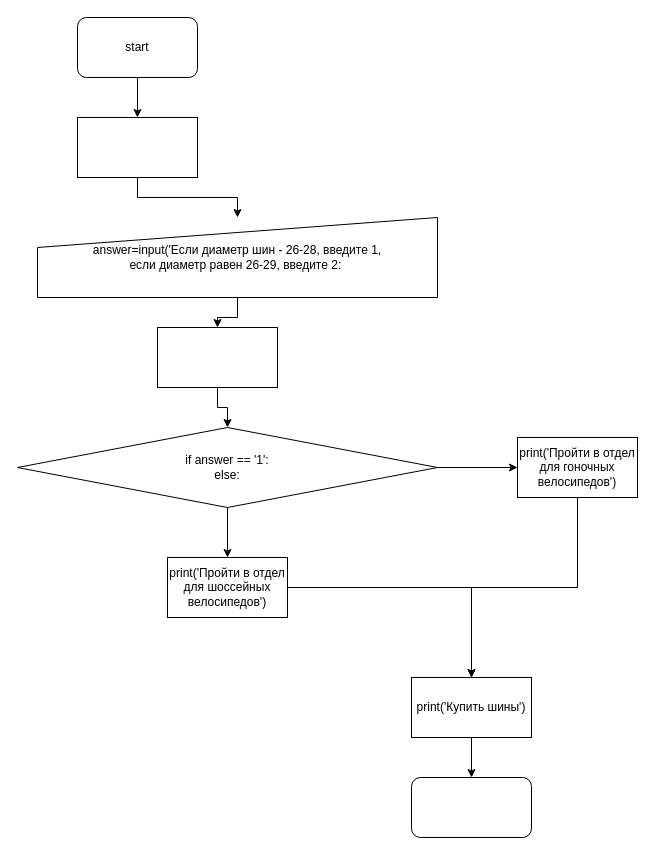
This 655x855 diagram has some shape labels left out. The centre of each missing label's shape, as x and y in pixels:
print('Прийти в магазин'): point (217, 357)
print('Узнать диаметр нужных велосипедных шин'): point (137, 147)
stop: point (471, 807)
